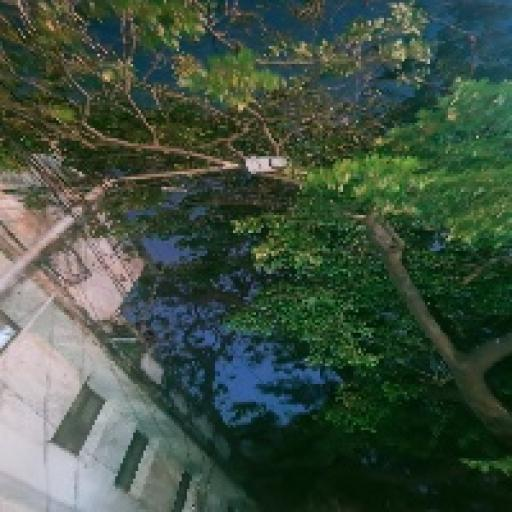Not Working: (234, 147, 298, 184)
